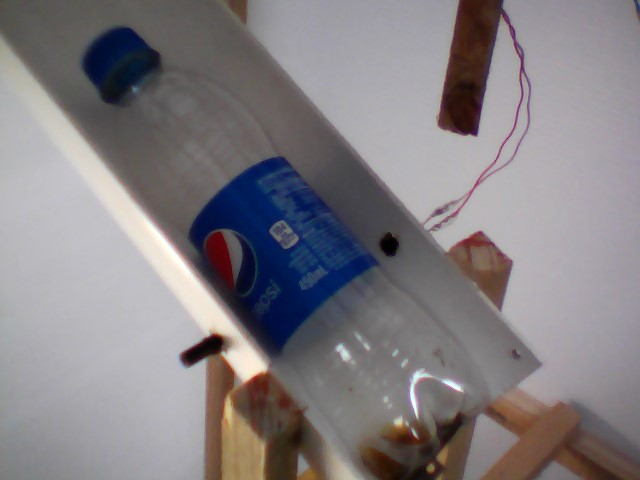plastico: (77, 14, 491, 480)
